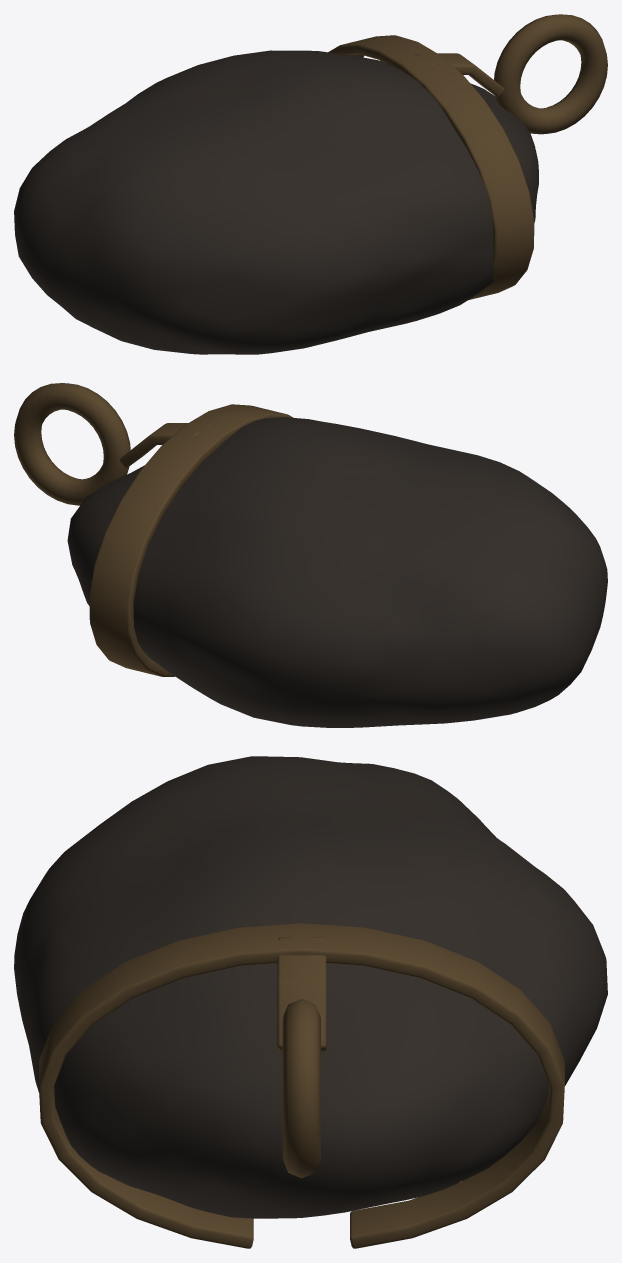
Rendered from shi-command-weight-v1-lod0.glb.
3 views of the same model, one above another, from view 1: azimuth 30°, elevation 25°; view 2: azimuth 150°, elevation 25°; view 3: azimuth 270°, elevation 25° (orthographic). The views are drawn at different scales.
Visible parts, largest first — view 1: SM_SHI_CommandWeight_LOD0_Stone, SM_SHI_CommandWeight_LOD0_BronzeBand, SM_SHI_CommandWeight_LOD0_BronzeEye, SM_SHI_CommandWeight_LOD0_BronzeNeck; view 2: SM_SHI_CommandWeight_LOD0_Stone, SM_SHI_CommandWeight_LOD0_BronzeBand, SM_SHI_CommandWeight_LOD0_BronzeEye, SM_SHI_CommandWeight_LOD0_BronzeNeck; view 3: SM_SHI_CommandWeight_LOD0_Stone, SM_SHI_CommandWeight_LOD0_BronzeBand, SM_SHI_CommandWeight_LOD0_BronzeEye, SM_SHI_CommandWeight_LOD0_BronzeNeck.
Part boxes in pixels (x1,y1,x2,y2): SM_SHI_CommandWeight_LOD0_Stone: (14, 50, 538, 354); SM_SHI_CommandWeight_LOD0_BronzeBand: (328, 35, 534, 299); SM_SHI_CommandWeight_LOD0_BronzeEye: (494, 14, 607, 134); SM_SHI_CommandWeight_LOD0_BronzeNeck: (415, 53, 504, 97); SM_SHI_CommandWeight_LOD0_Stone: (67, 417, 607, 727); SM_SHI_CommandWeight_LOD0_BronzeBand: (89, 404, 293, 676); SM_SHI_CommandWeight_LOD0_BronzeEye: (14, 383, 130, 505); SM_SHI_CommandWeight_LOD0_BronzeNeck: (119, 423, 211, 467); SM_SHI_CommandWeight_LOD0_Stone: (14, 756, 607, 1218); SM_SHI_CommandWeight_LOD0_BronzeBand: (39, 923, 564, 1248); SM_SHI_CommandWeight_LOD0_BronzeEye: (282, 999, 320, 1178); SM_SHI_CommandWeight_LOD0_BronzeNeck: (277, 937, 326, 1051).
Bounding box in the file's own units: 0.0848 × 0.0343 × 0.0555.
